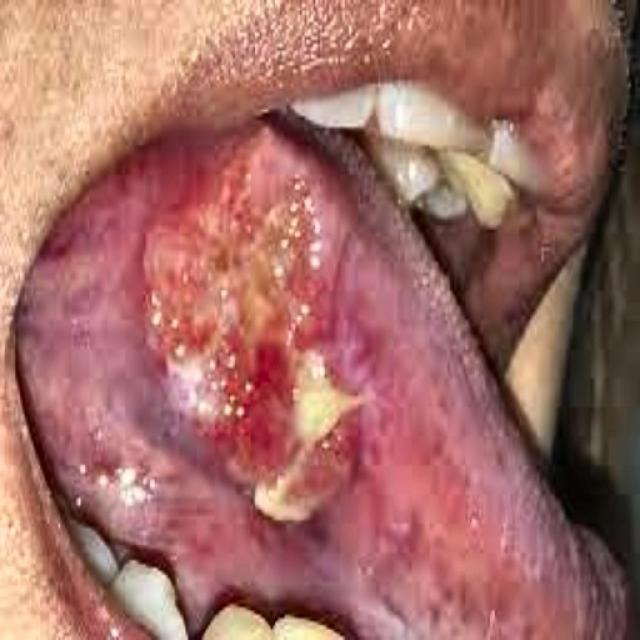cancer-detection: (135, 105, 396, 549)
processing_area: (5, 114, 627, 638)
